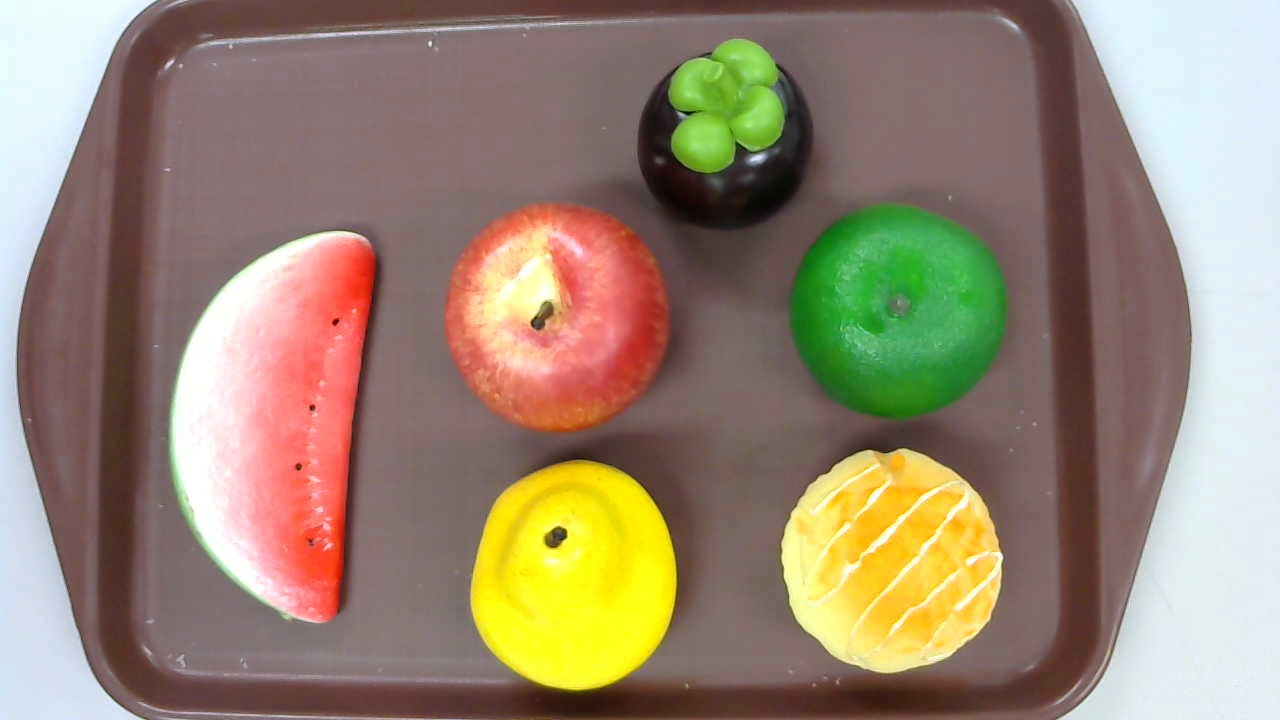cupcake: (781, 449, 1003, 672)
green orange: (789, 204, 1008, 422)
mangosteen: (637, 39, 814, 230)
red apple: (443, 202, 672, 433)
watermelon: (167, 230, 375, 623)
yellow pear: (471, 459, 676, 692)
